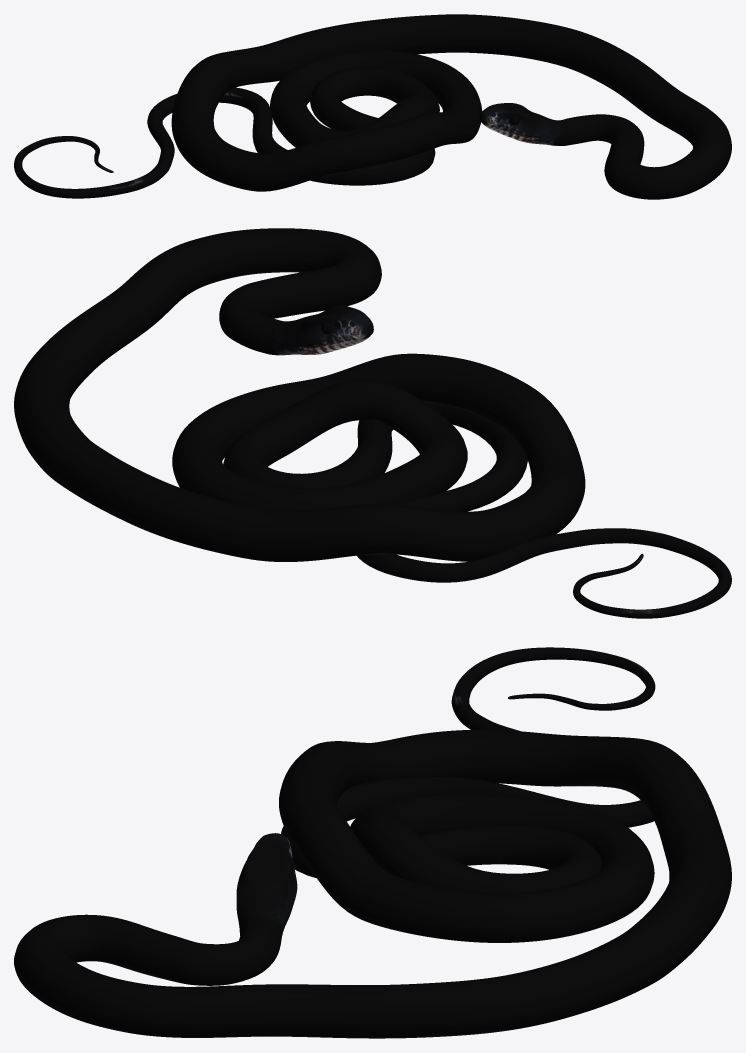
File: snakeRacer_065_cutOtherEyeHole.glb
The picture shows the model from 3 angles, top to bottom: view 1: azimuth 30°, elevation 25°; view 2: azimuth 150°, elevation 25°; view 3: azimuth 270°, elevation 25°; orthographic projection. The views are drawn at different scales.
Visible parts, largest first — view 1: body_sculptPose; view 2: body_sculptPose; view 3: body_sculptPose.
Part boxes in pixels (<box>): body_sculptPose: <box>14,14,731,199</box>; body_sculptPose: <box>14,228,731,618</box>; body_sculptPose: <box>14,647,731,1038</box>.
Size of the model in its own units: 0.3886 by 0.0405 by 0.296.
4 materials, 2 textured.
